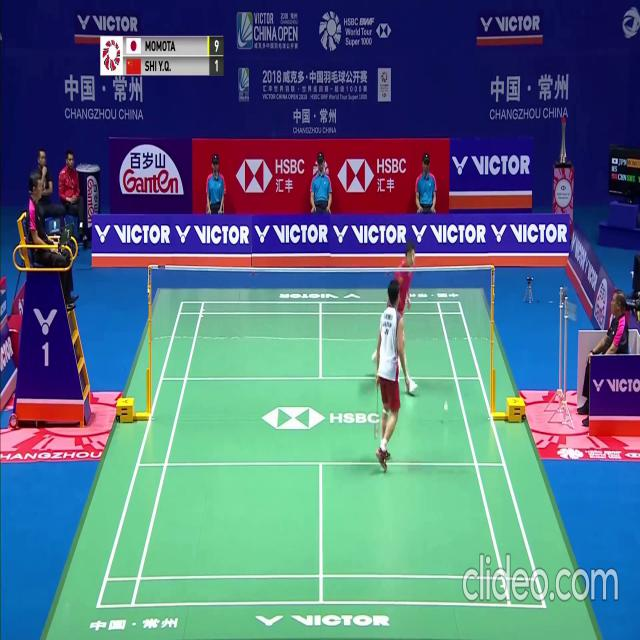Shuttlecock: (443, 402, 448, 409)
